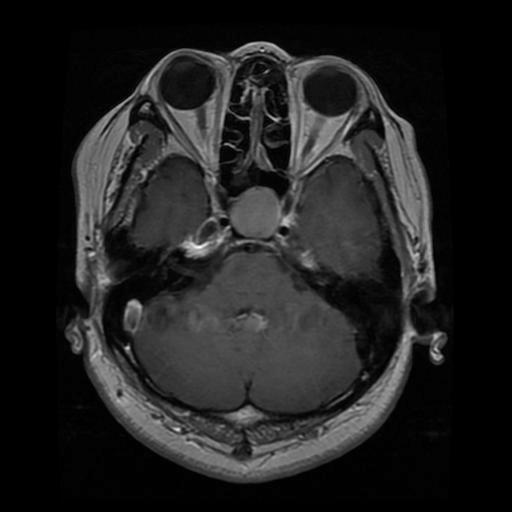Tumour-Pituitary: (231, 189, 283, 239)
